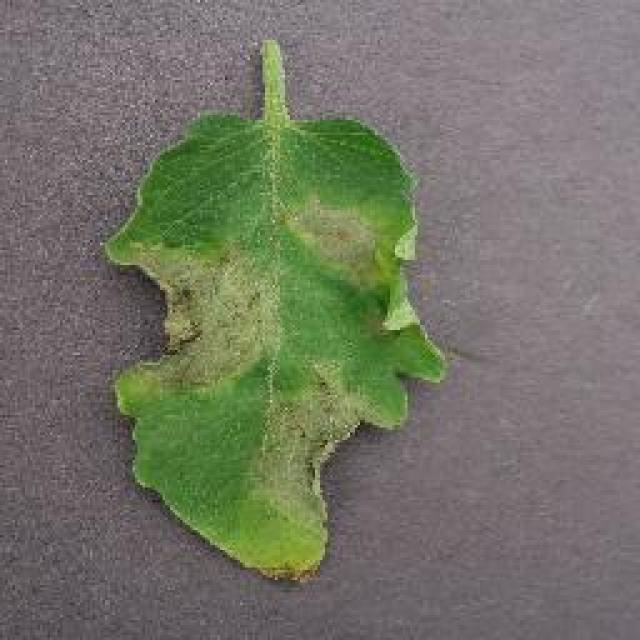Tomato late blight leaf: (100, 110, 443, 592)
